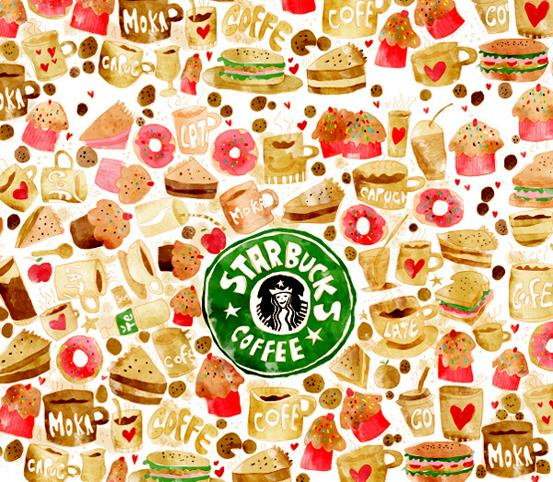starbucks: (201, 229, 363, 381)
